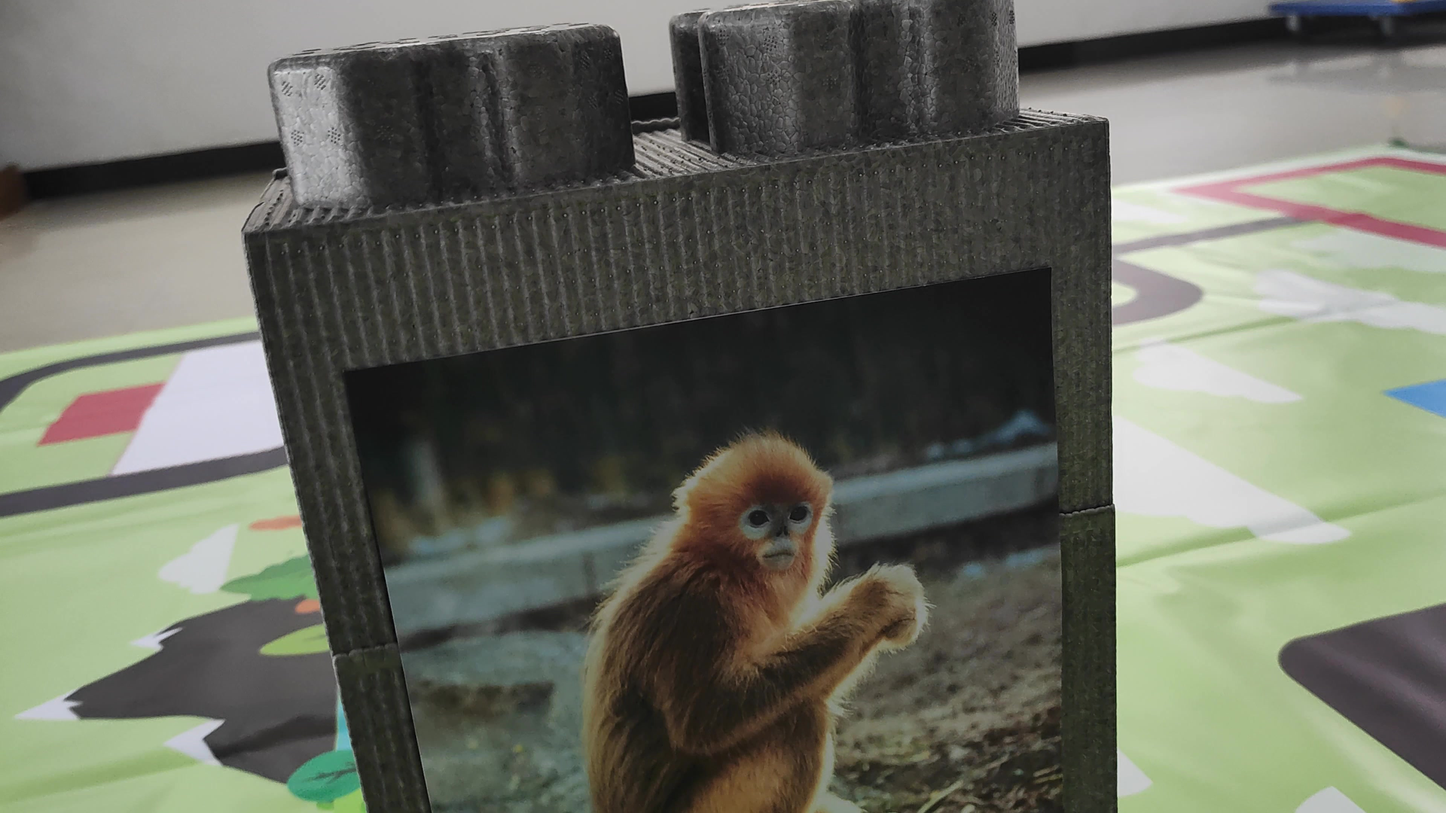monkey: (444, 379, 964, 813)
